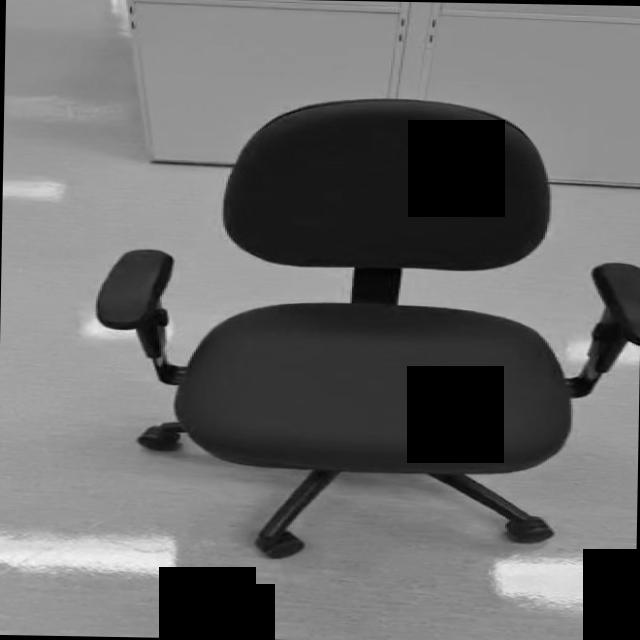chair: (91, 92, 640, 563)
